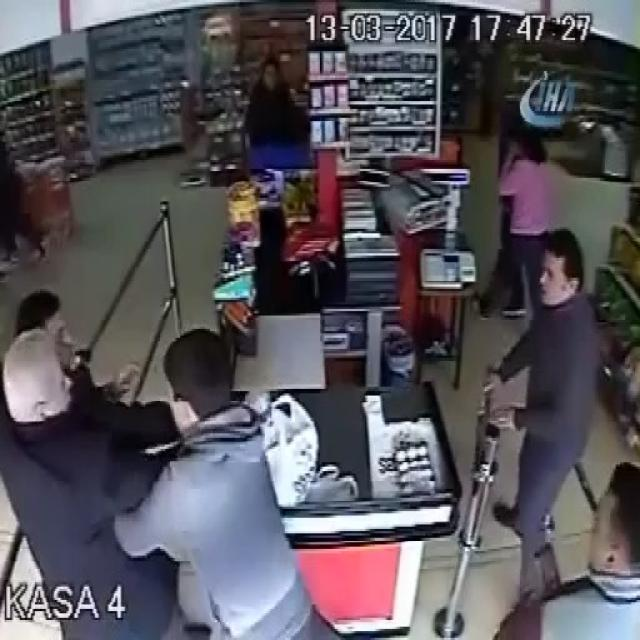fight: (0, 325, 312, 640)
